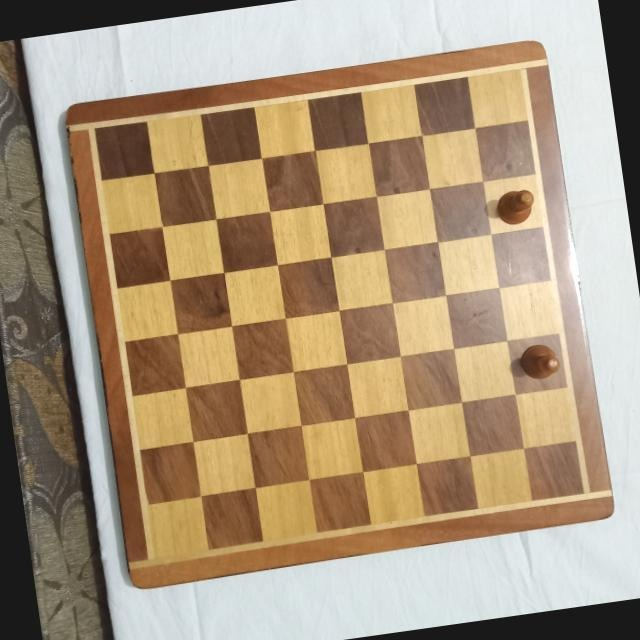white-pawn: (492, 185, 539, 228), (517, 341, 562, 383)
